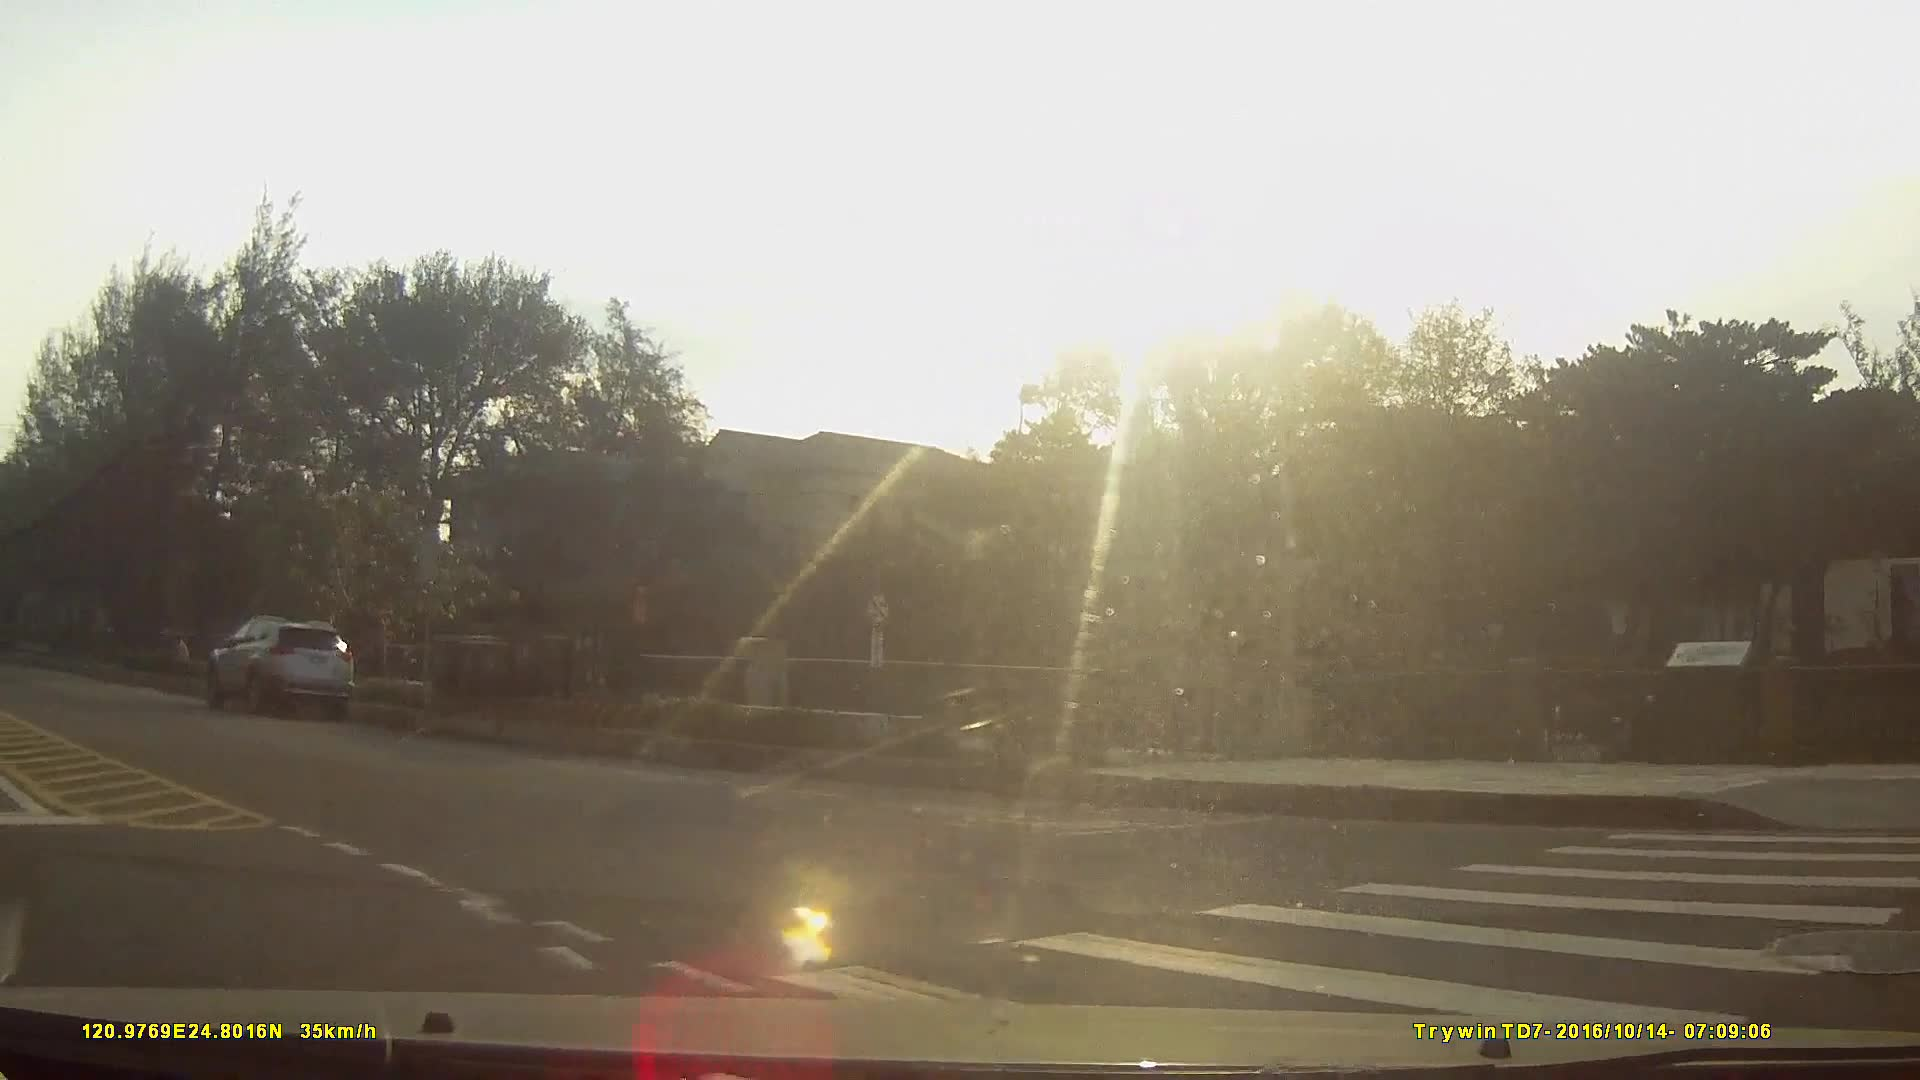vehicle: (204, 615, 352, 723)
